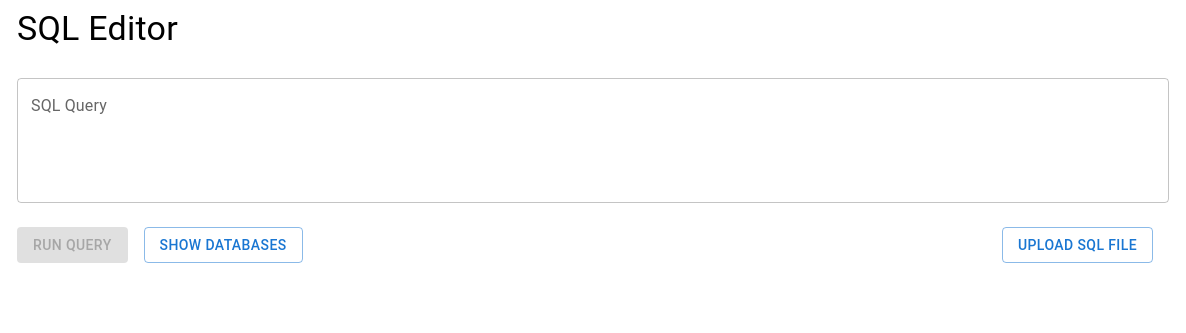
Test: SqlEditor › displays error message on query failure
This screenshot has width=1186, height=333.
In the text box labelled "SQL Query": (593, 140) [31, 94, 1155, 186], type "INVALID QUERY"
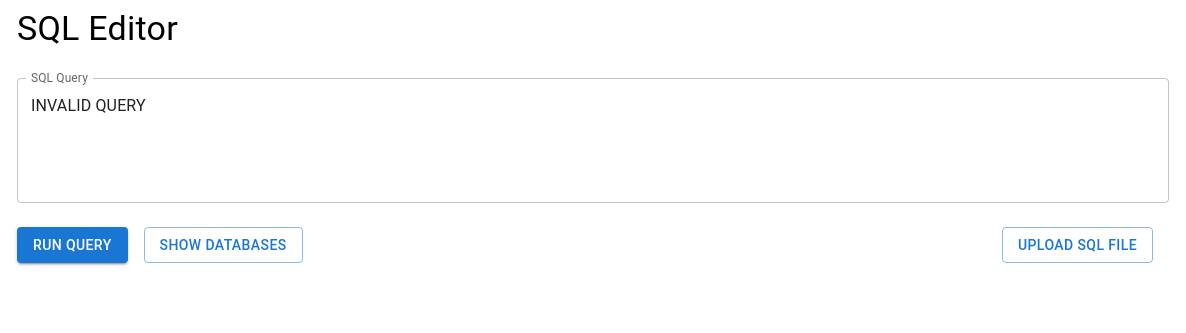
Click the button "Run Query": (72, 245) [17, 227, 128, 263]
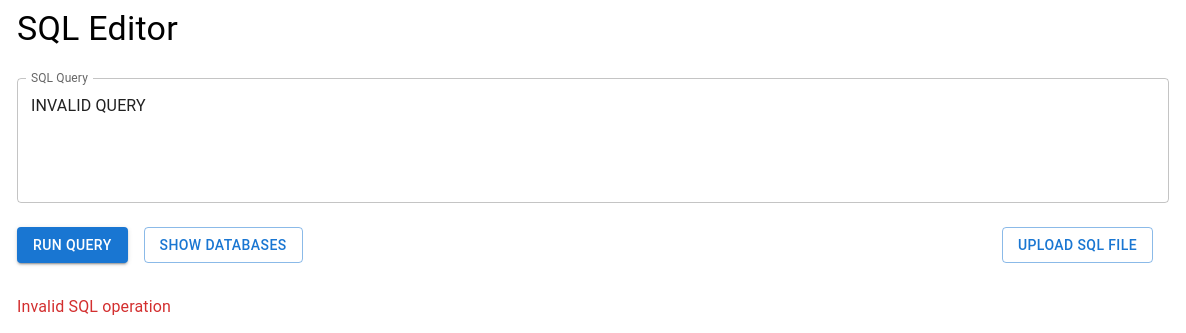
expect the text "Invalid SQL operation" is shown: met, box [17, 297, 171, 316]
